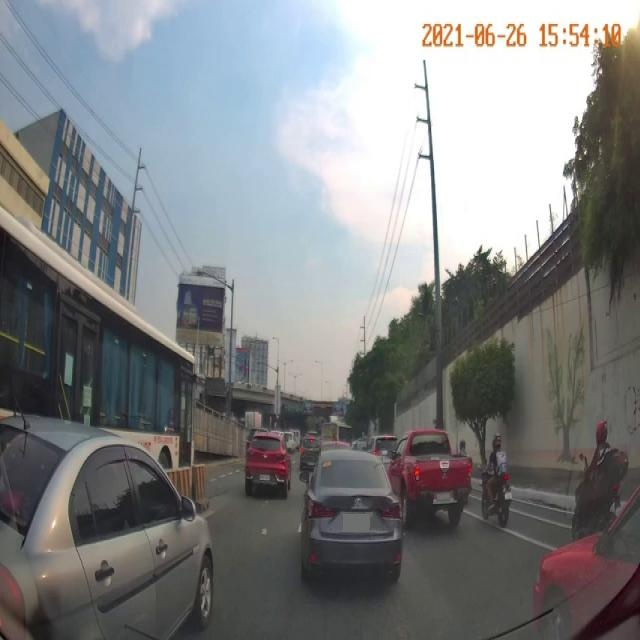bus: (0, 207, 204, 482)
car: (0, 416, 214, 640), (240, 431, 292, 506), (299, 434, 321, 477)
motorcycle: (571, 412, 620, 540), (483, 436, 510, 540)
